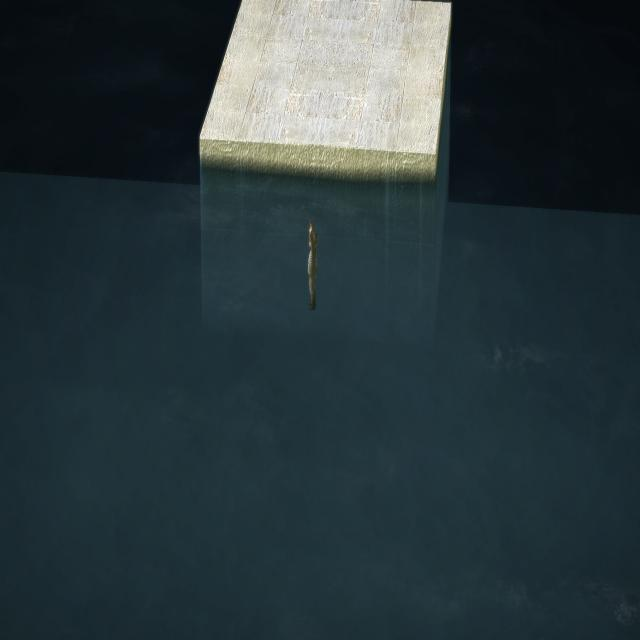Human: (302, 221, 324, 319)
